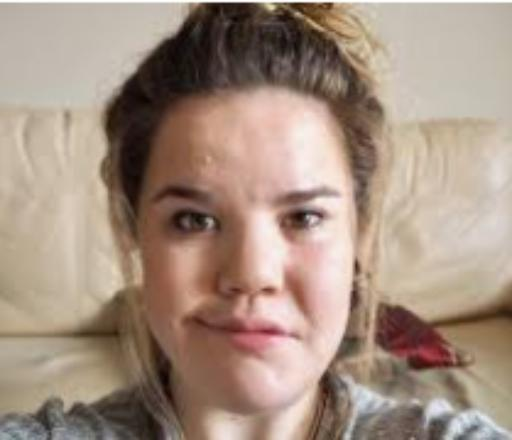left_eye: (274, 210, 331, 234)
left_lip_corner: (278, 325, 305, 345)
right_eye: (166, 210, 225, 238)
right_lip_corner: (188, 313, 223, 335)
